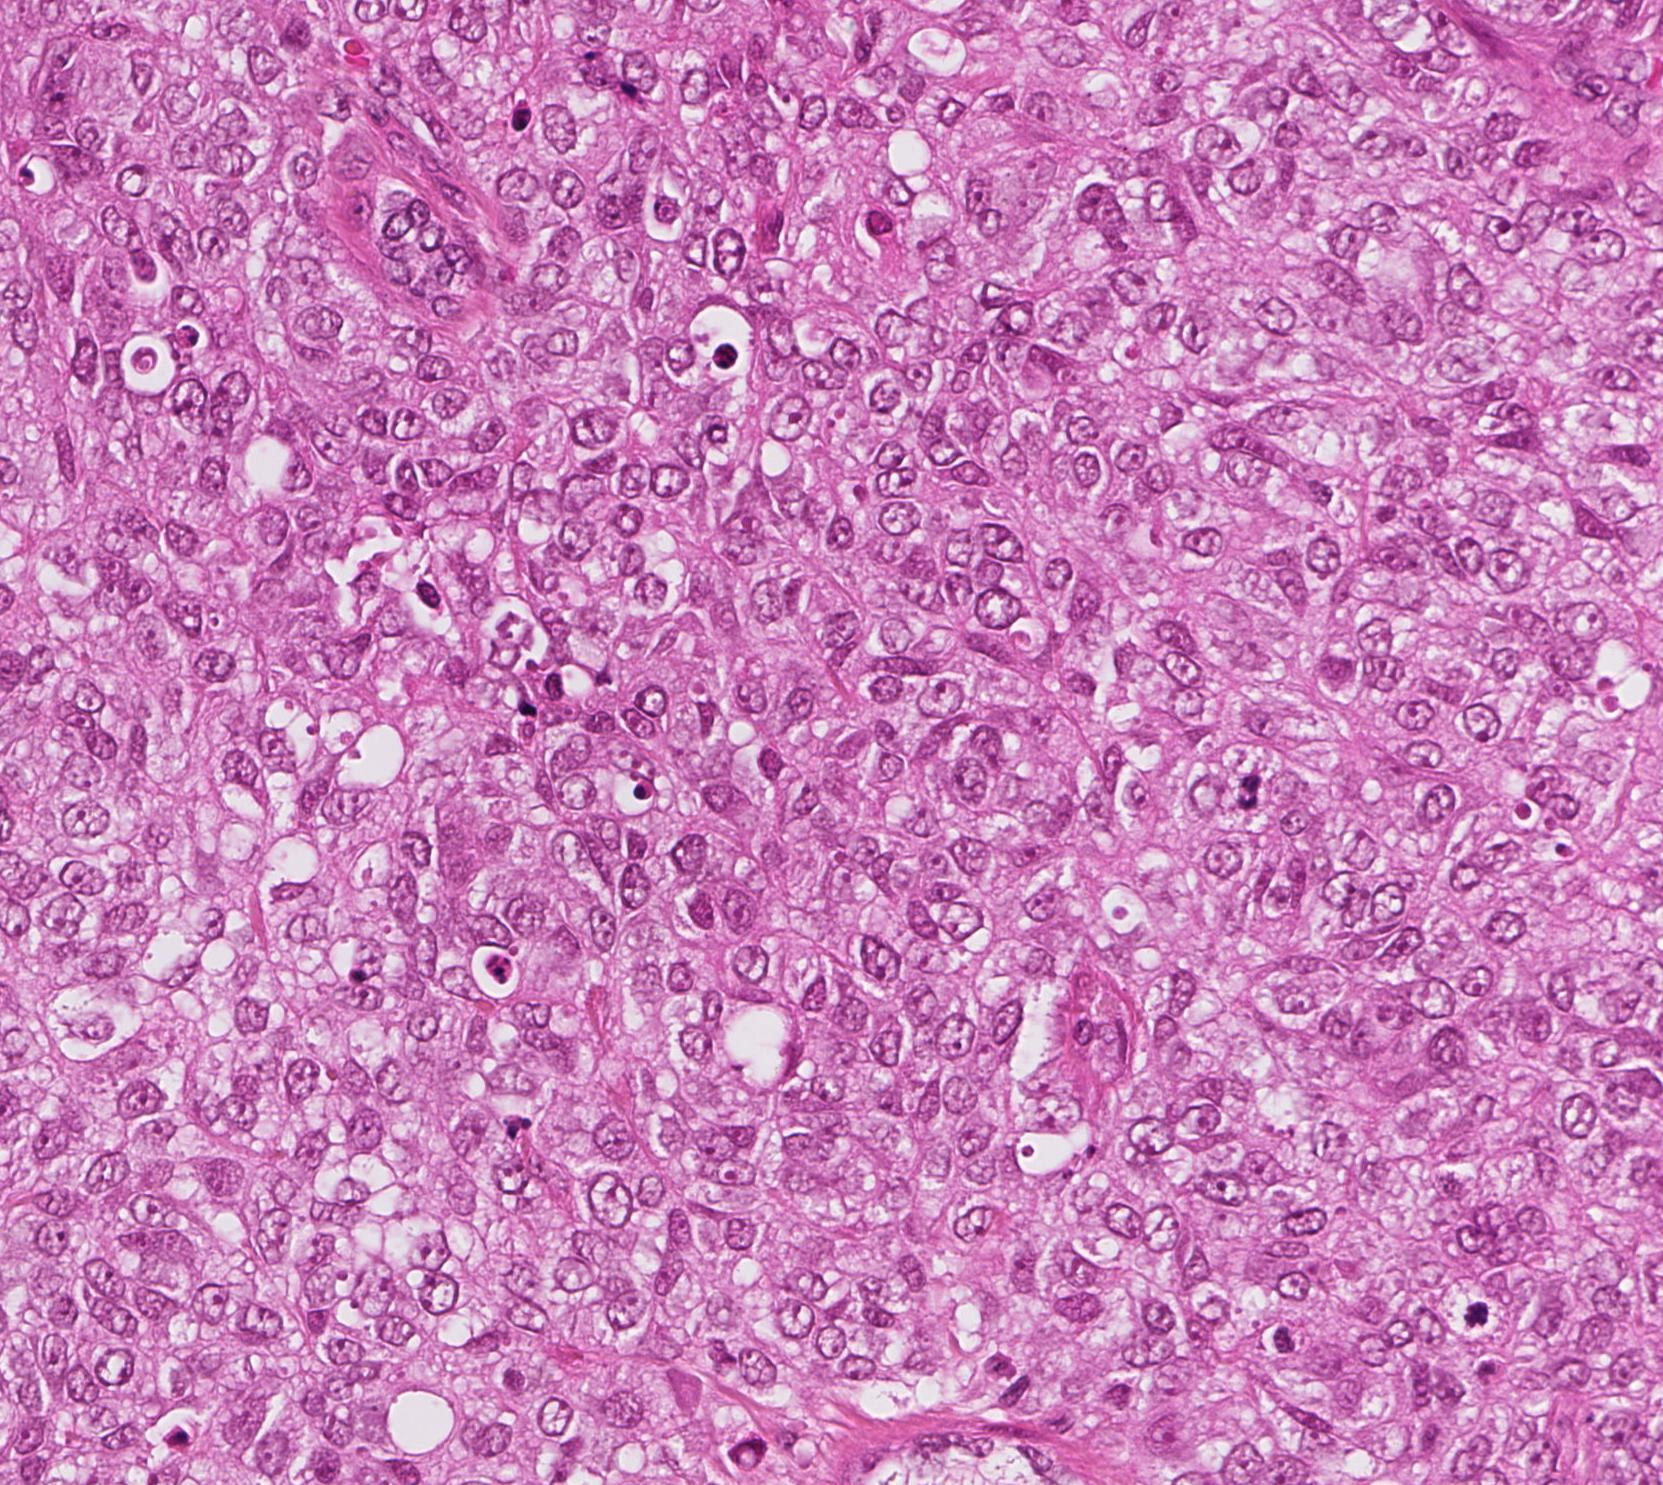mitosis: (1439, 1284, 1500, 1345)
